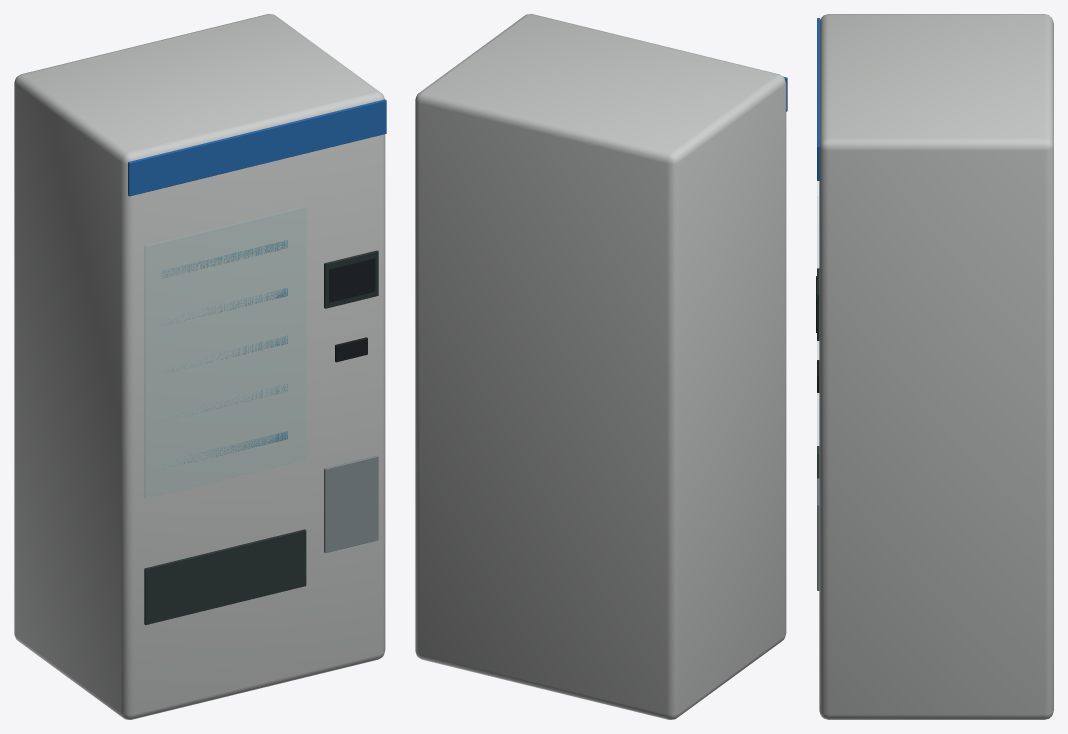
The model's file is sc-scrubs-dispenser.glb.
3 renders of one model, left to right at view 1: azimuth 30°, elevation 25°; view 2: azimuth 150°, elevation 25°; view 3: azimuth 270°, elevation 25°, orthographic. The views are drawn at different scales.
Visible parts, largest first — view 1: sc-scrubs-dispenser; view 2: sc-scrubs-dispenser; view 3: sc-scrubs-dispenser.
Boxes of the visible parts, x1,y1,x2,y2 form: sc-scrubs-dispenser: (14, 14, 386, 719); sc-scrubs-dispenser: (415, 14, 787, 719); sc-scrubs-dispenser: (816, 14, 1053, 719).
Size of the model in its own units: 0.98 by 2.02 by 0.75.
